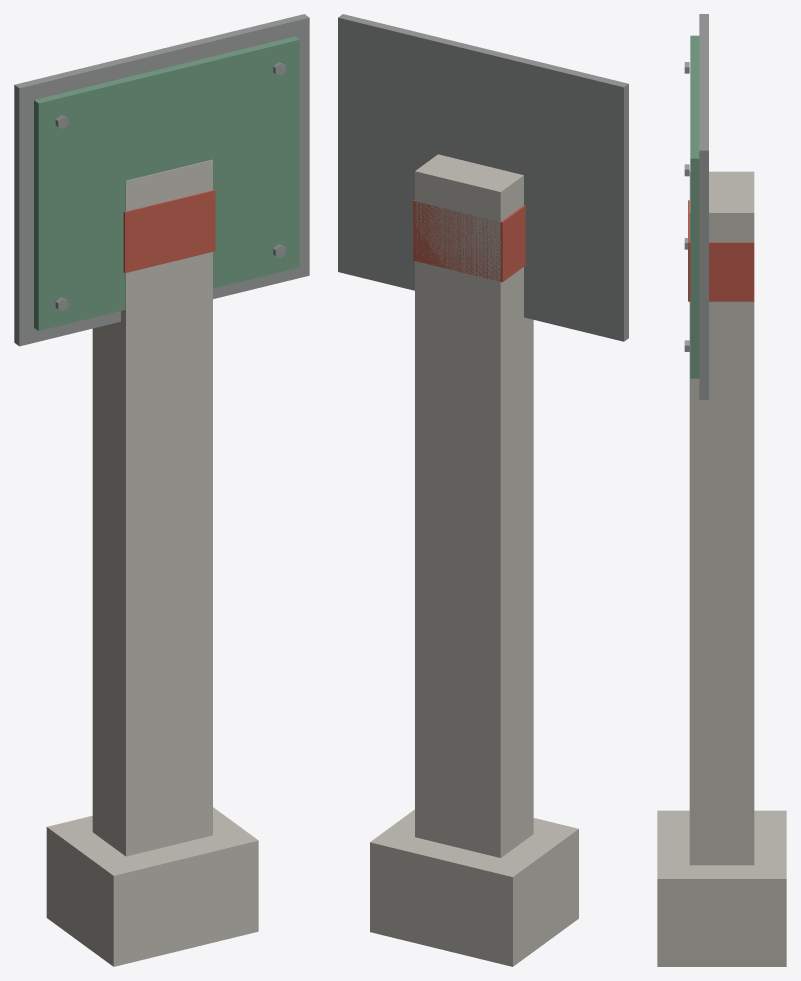
Rendered from km_post.glb.
The picture shows the model from 3 angles, left to right: view 1: azimuth 30°, elevation 25°; view 2: azimuth 150°, elevation 25°; view 3: azimuth 270°, elevation 25°; orthographic projection. The views are drawn at different scales.
Parts seen in each view (by area): view 1: KmPost; view 2: KmPost; view 3: KmPost.
Part boxes in pixels (<box>): KmPost: <box>14,14,309,966</box>; KmPost: <box>338,14,628,966</box>; KmPost: <box>657,14,786,966</box>.
Size of the model in its own units: 0.4 by 1.16 by 0.16.
